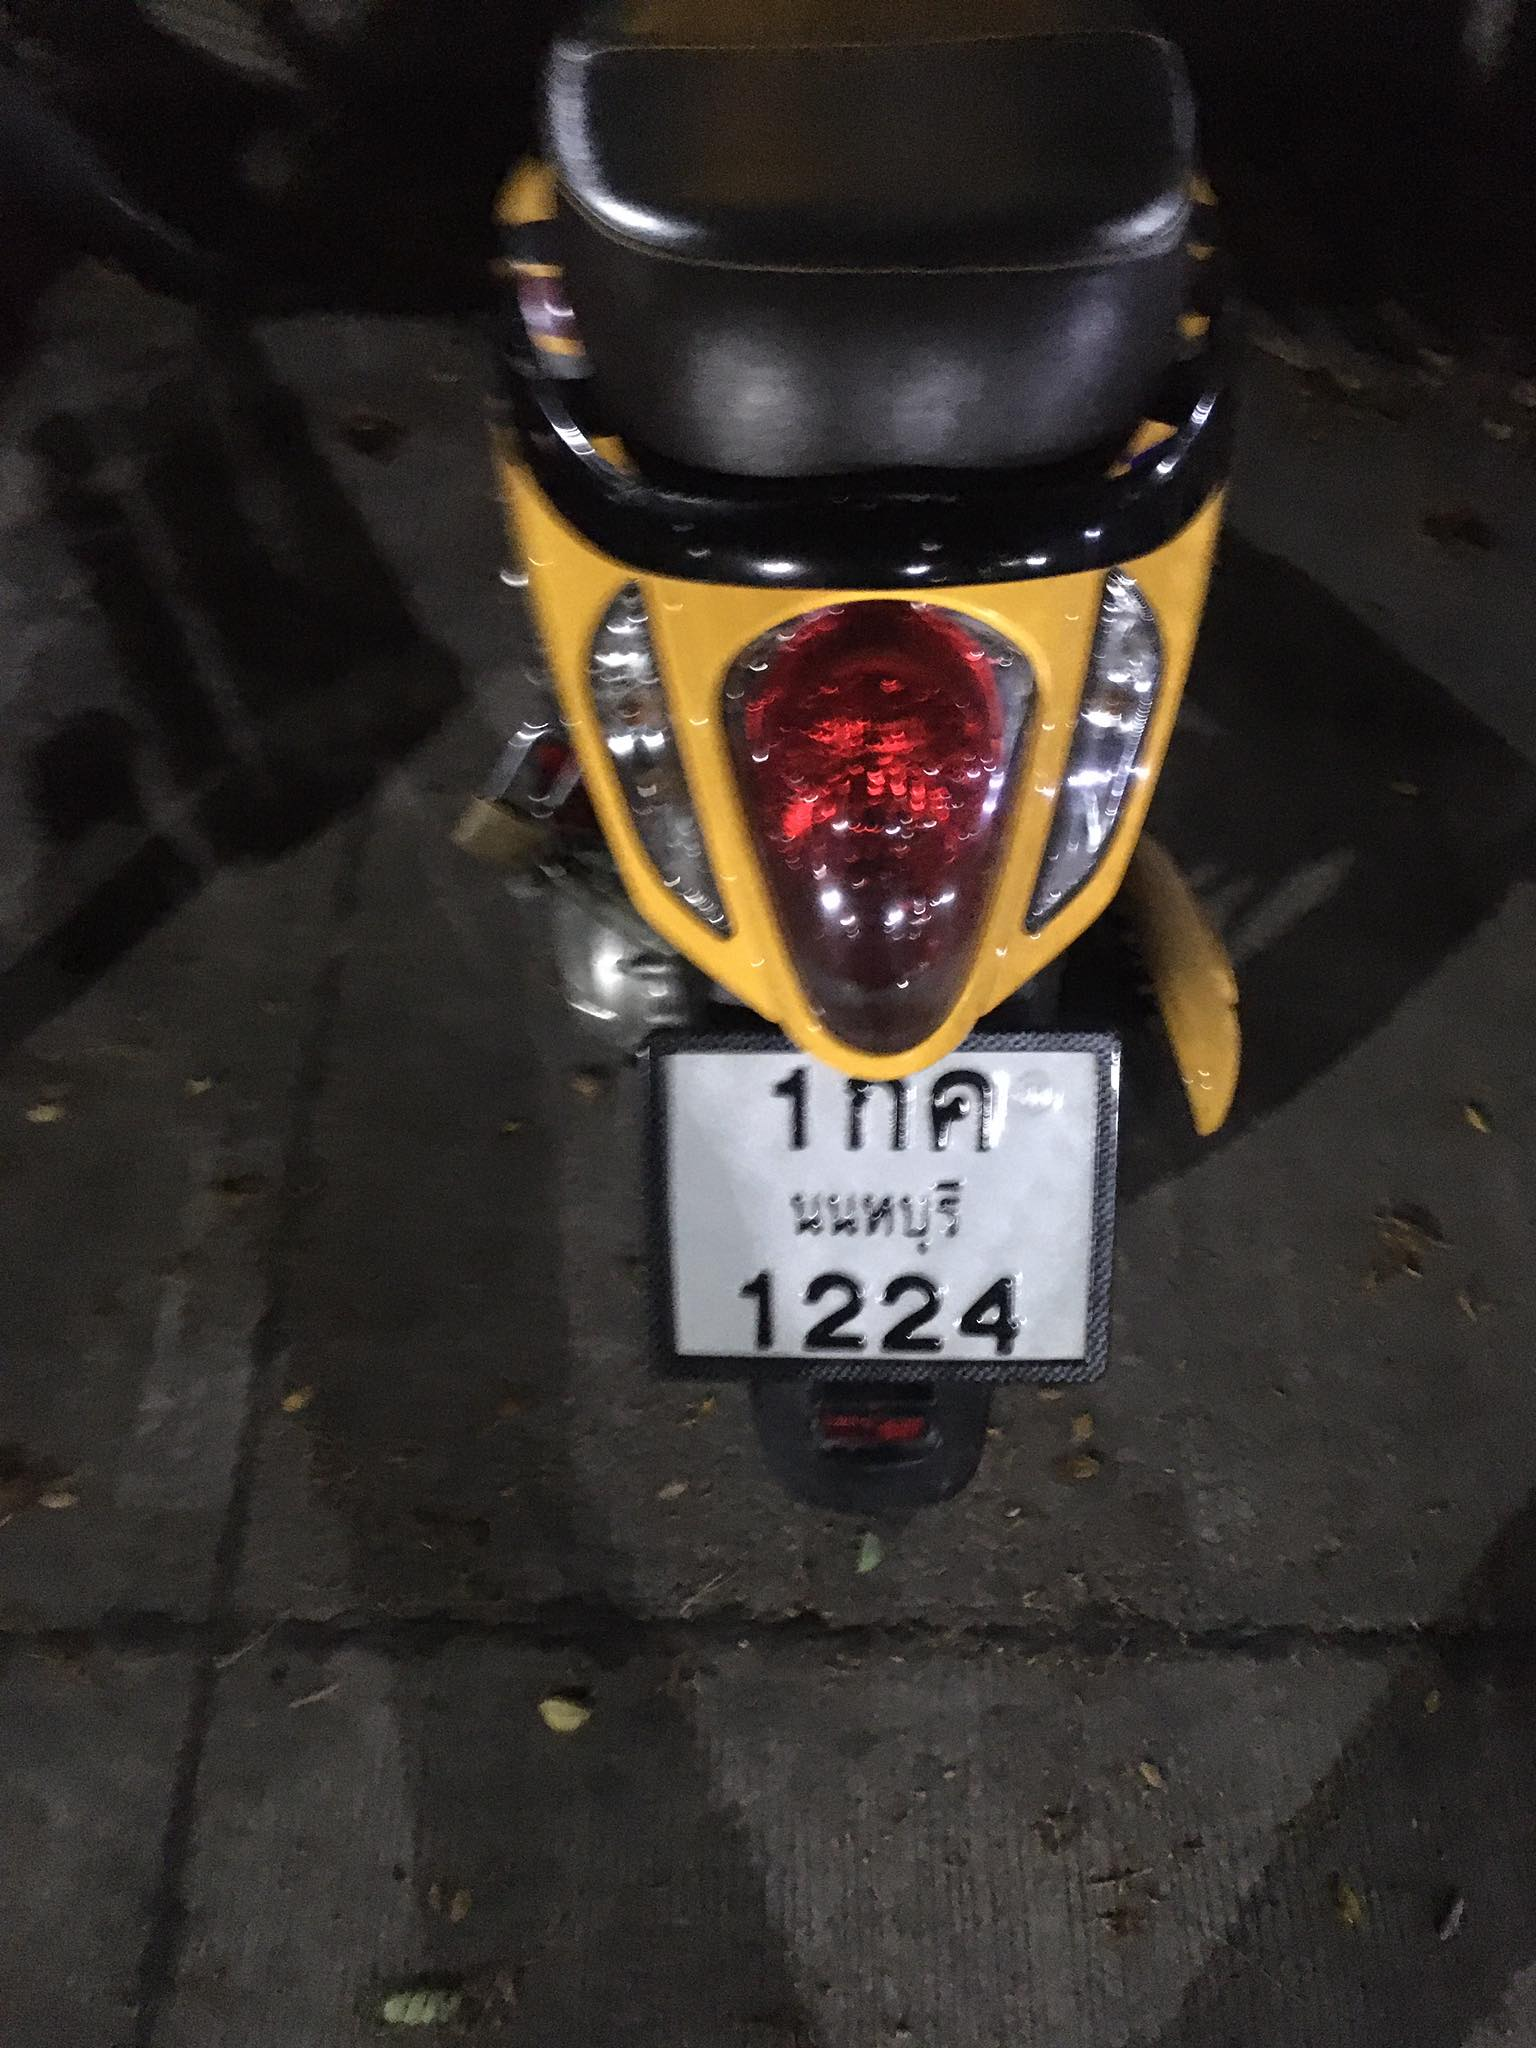line1: (744, 1058, 1033, 1164)
line2: (779, 1171, 975, 1261)
line3: (721, 1255, 1047, 1364)
